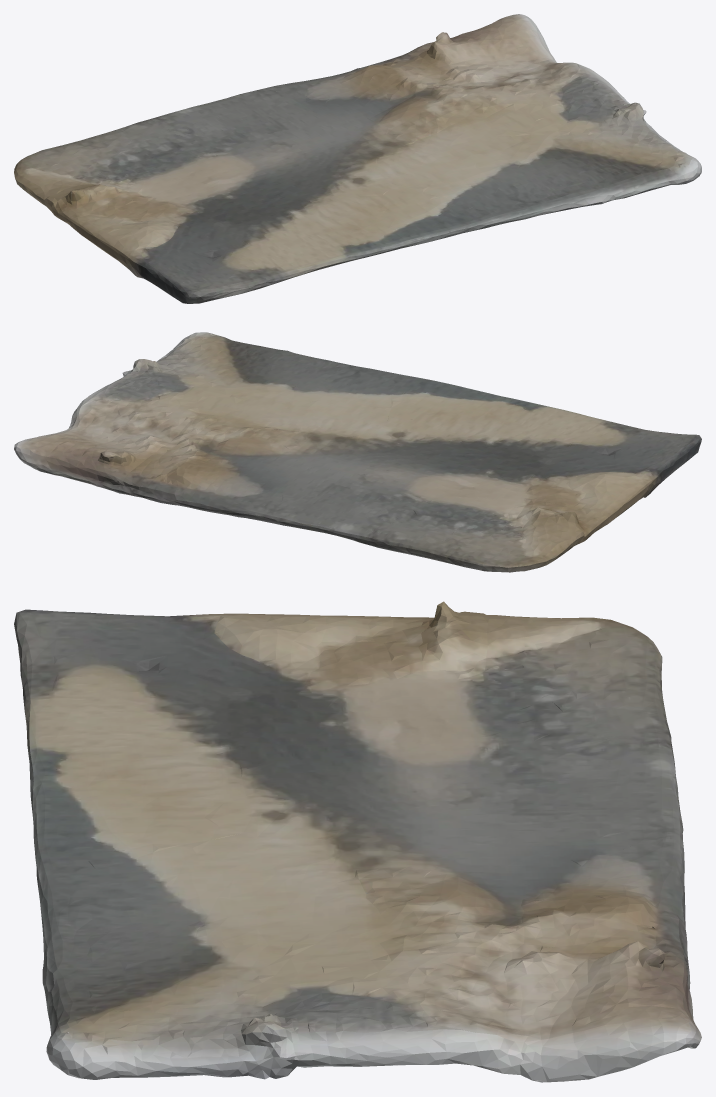
3 views of the same model, one above another, from view 1: azimuth 30°, elevation 25°; view 2: azimuth 150°, elevation 25°; view 3: azimuth 270°, elevation 25° (orthographic). The views are drawn at different scales.
Parts seen in each view (by area): view 1: geometry_0; view 2: geometry_0; view 3: geometry_0.
Part boxes in pixels (left/top/right/bottom): geometry_0: left=14, top=14, right=701, bottom=303; geometry_0: left=14, top=332, right=701, bottom=572; geometry_0: left=14, top=601, right=701, bottom=1082.
Bounding box in the file's own units: 0.9866 × 0.0689 × 0.644.
1 material, 1 textured.
